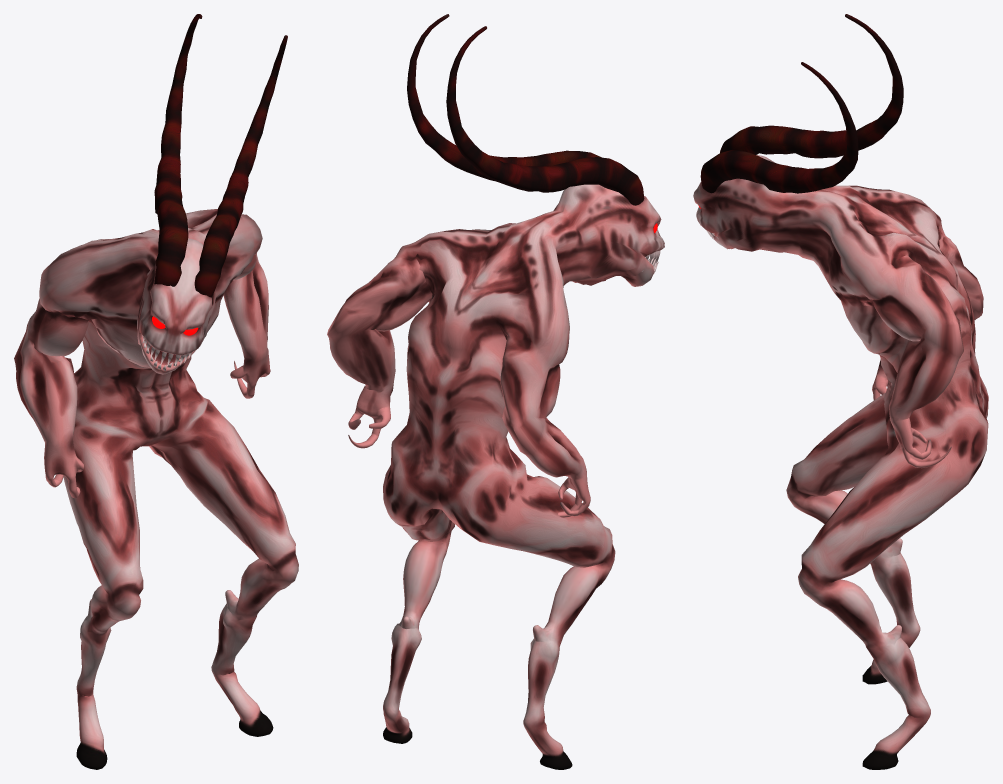
The model's file is demon.glb.
3 views of the same model, side by side, from view 1: azimuth 30°, elevation 25°; view 2: azimuth 150°, elevation 25°; view 3: azimuth 270°, elevation 25° (orthographic). The views are drawn at different scales.
Parts seen in each view (by area): view 1: Object_4, Object_3, Object_2; view 2: Object_4, Object_3, Object_2; view 3: Object_4, Object_3, Object_2.
Part boxes in pixels (<box>): Object_4: <box>14,209,298,769</box>; Object_3: <box>154,14,202,286</box>; Object_2: <box>142,35,287,370</box>; Object_4: <box>327,184,664,769</box>; Object_3: <box>446,26,644,205</box>; Object_2: <box>407,14,660,271</box>; Object_4: <box>693,155,988,769</box>; Object_3: <box>720,14,903,158</box>; Object_2: <box>698,62,858,239</box>.
Size of the model in its own units: 71.69 by 213 by 79.5.
Materials: 1 (1 with a texture image).
